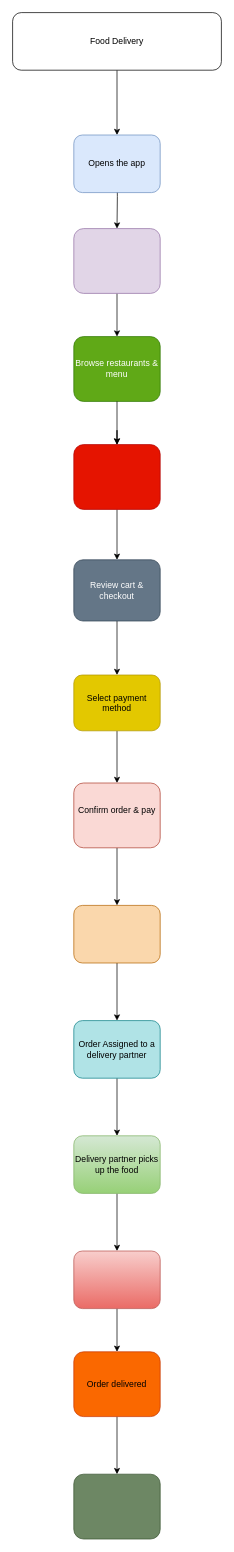
Image size: 234x1552. Some labels were removed from this diagram. The centre of each missing label's shape, as x and y in pixels:
Add items to cart: point 116,476
Choose delivery location: point 116,260
Order knowledged: point 116,934
Real time tracking: point 116,1279
